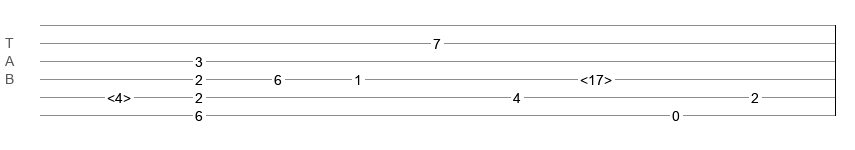0: (672, 108, 680, 118)
1: (354, 72, 362, 82)
2: (195, 90, 203, 100), (195, 72, 203, 82), (751, 90, 759, 100)
3: (195, 54, 203, 64)
4: (513, 90, 521, 100)
6: (195, 108, 203, 118), (274, 72, 282, 82)
7: (433, 36, 441, 46)
harmonic: (580, 72, 612, 82), (107, 90, 131, 100)
